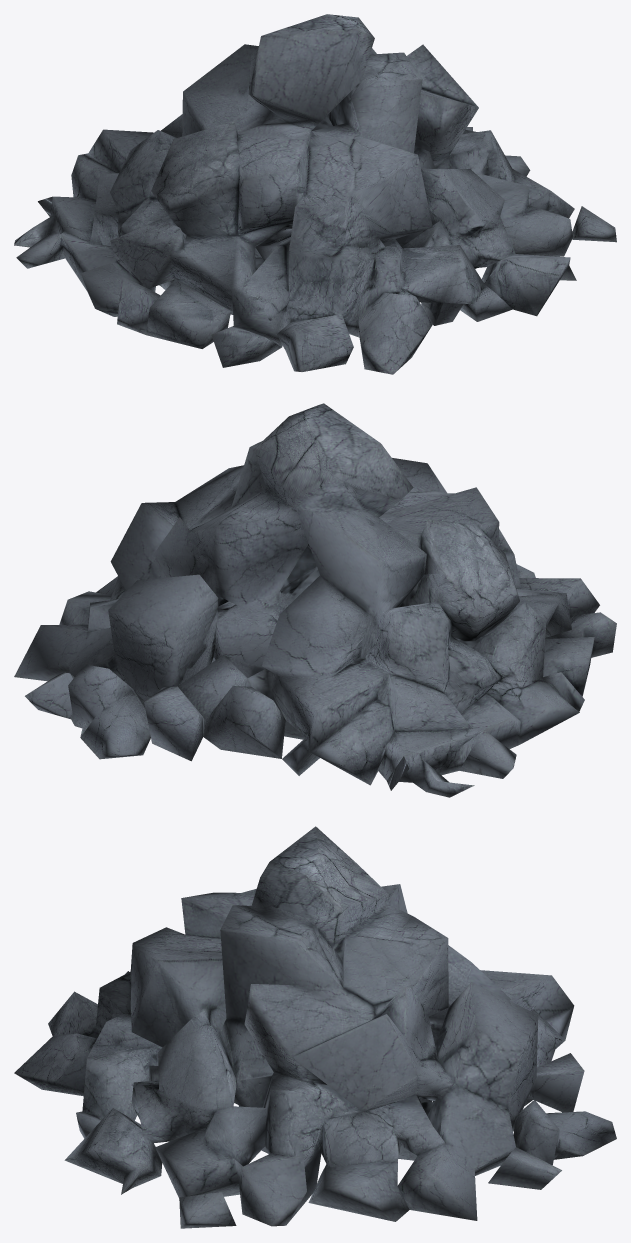
The model's file is prop-den-rubble.glb.
3 renders of one model, top to bottom at view 1: azimuth 30°, elevation 25°; view 2: azimuth 150°, elevation 25°; view 3: azimuth 270°, elevation 25°, orthographic. The views are drawn at different scales.
Bounding box in the file's own units: 1.98 × 0.9383 × 2.
Materials: 1 (1 with a texture image).
